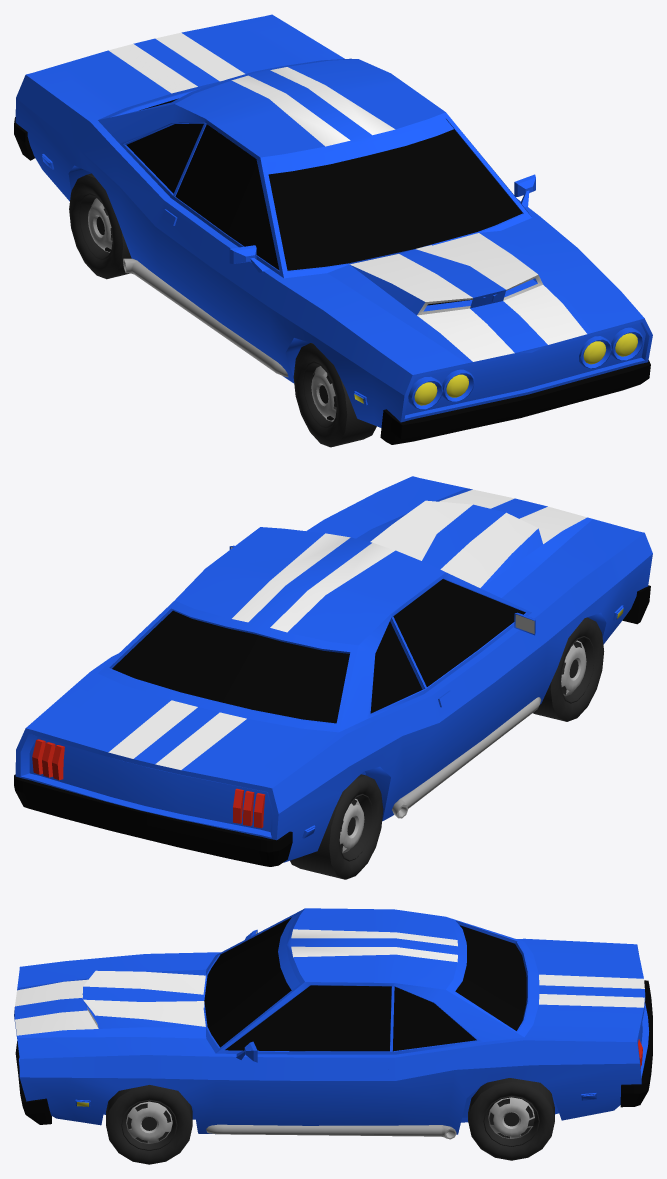
File: MUSTANG.fbx
The picture shows the model from 3 angles, top to bottom: view 1: azimuth 30°, elevation 25°; view 2: azimuth 150°, elevation 25°; view 3: azimuth 270°, elevation 25°; orthographic projection. The views are drawn at different scales.
Parts seen in each view (by area): view 1: Cube, Cube.001, Cube.005; view 2: Cube, Cube.005, Cube.001; view 3: Cube, Cube.002, Cube.004.
Part boxes in pixels (<box>): Cube: <box>14,14,652,444</box>; Cube.001: <box>293,343,376,447</box>; Cube.005: <box>69,173,131,279</box>; Cube: <box>14,476,652,866</box>; Cube.005: <box>290,774,383,879</box>; Cube.001: <box>533,617,604,721</box>; Cube: <box>14,908,652,1139</box>; Cube.002: <box>468,1078,554,1160</box>; Cube.004: <box>106,1085,192,1164</box>.
Bounding box in the file's own units: 546 × 359 × 1216.
1 material, 1 textured.
